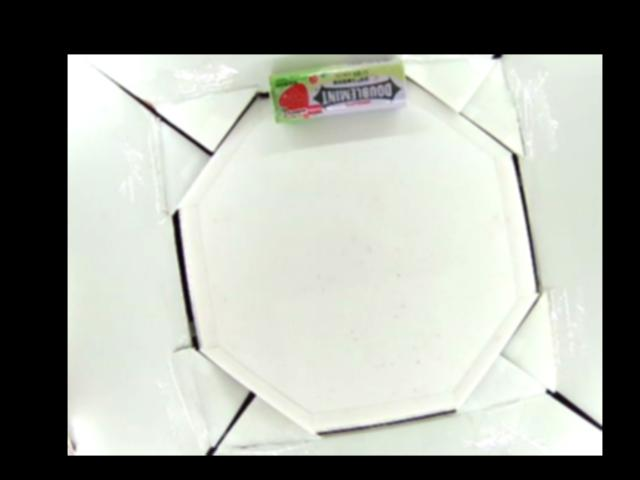Bottle: (270, 57, 406, 124)
